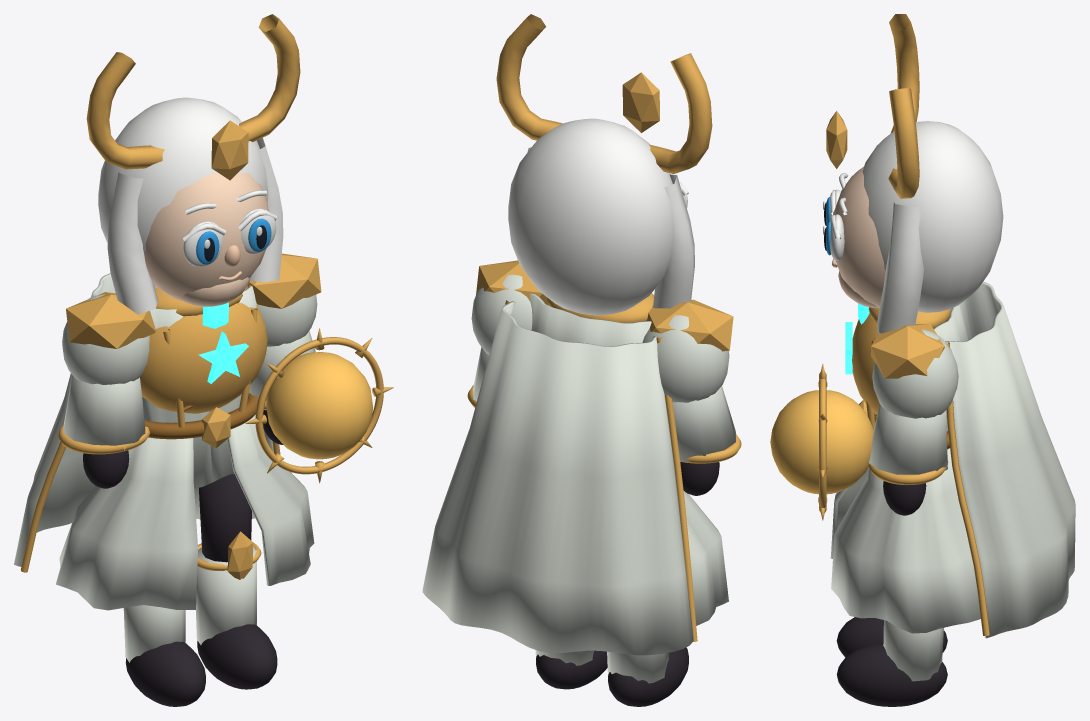
Rendered from iris-refined-v15.fbx.
3 views of the same model, side by side, from view 1: azimuth 30°, elevation 25°; view 2: azimuth 150°, elevation 25°; view 3: azimuth 270°, elevation 25° (orthographic). The views are drawn at different scales.
Parts seen in each view (by area): view 1: Dress.001, HairVolume.002, SolarOrb, CelestialBreastplate, Face.002, FlowingCape.002, Sleeve.004, SilverBob, Boot.005, Boot.004, BootShaft.005, CrescentCrown (+22 smaller); view 2: FlowingCape.002, HairVolume.002, SleeveCap.004, Dress.001, CrescentCrown, CrescentCrown.001, Sleeve.004, FittedBodice.002, SilverBob, ShoulderPlate.004, SleeveCap.005, Boot.004 (+9 smaller); view 3: FlowingCape.002, Dress.001, HairVolume.002, SolarOrb, Sleeve.005, SilverBob.001, Boot.005, Face.002, SleeveCap.005, ShoulderPlate.005, CrescentCrown.001, BootShaft.005 (+11 smaller).
Boxes of the visible parts, left/top/right/bottom form: Dress.001: left=56, top=414, right=314, bottom=610; HairVolume.002: left=98, top=97, right=268, bottom=288; SolarOrb: left=266, top=352, right=373, bottom=459; CelestialBreastplate: left=140, top=302, right=267, bottom=413; Face.002: left=144, top=172, right=268, bottom=300; FlowingCape.002: left=14, top=273, right=273, bottom=566; Sleeve.004: left=63, top=375, right=145, bottom=445; SilverBob: left=107, top=171, right=158, bottom=314; Boot.005: left=197, top=624, right=277, bottom=689; Boot.004: left=125, top=641, right=205, bottom=706; BootShaft.005: left=195, top=546, right=256, bottom=645; CrescentCrown: left=86, top=52, right=164, bottom=169; FlowingCape.002: left=422, top=301, right=693, bottom=655; HairVolume.002: left=508, top=118, right=674, bottom=315; SleeveCap.004: left=642, top=315, right=729, bottom=402; Dress.001: left=683, top=491, right=728, bottom=625; CrescentCrown: left=649, top=53, right=712, bottom=173; CrescentCrown.001: left=496, top=14, right=562, bottom=140; Sleeve.004: left=672, top=386, right=735, bottom=461; FittedBodice.002: left=530, top=293, right=651, bottom=346; SilverBob: left=653, top=174, right=694, bottom=308; ShoulderPlate.004: left=646, top=299, right=733, bottom=351; SleeveCap.005: left=471, top=274, right=532, bottom=354; Boot.004: left=608, top=647, right=688, bottom=706; FlowingCape.002: left=945, top=281, right=1075, bottom=638; Dress.001: left=830, top=416, right=980, bottom=633; HairVolume.002: left=862, top=121, right=1003, bottom=312; SolarOrb: left=770, top=390, right=873, bottom=494; Sleeve.005: left=869, top=404, right=947, bottom=474; SilverBob.001: left=877, top=202, right=923, bottom=333; Boot.005: left=836, top=642, right=947, bottom=706; Face.002: left=833, top=166, right=885, bottom=308; SleeveCap.005: left=872, top=329, right=958, bottom=418; ShoulderPlate.005: left=871, top=324, right=944, bottom=378; CrescentCrown.001: left=888, top=88, right=919, bottom=198; BootShaft.005: left=883, top=620, right=943, bottom=681.
Size of the model in its own units: 105 by 227 by 98.89.
